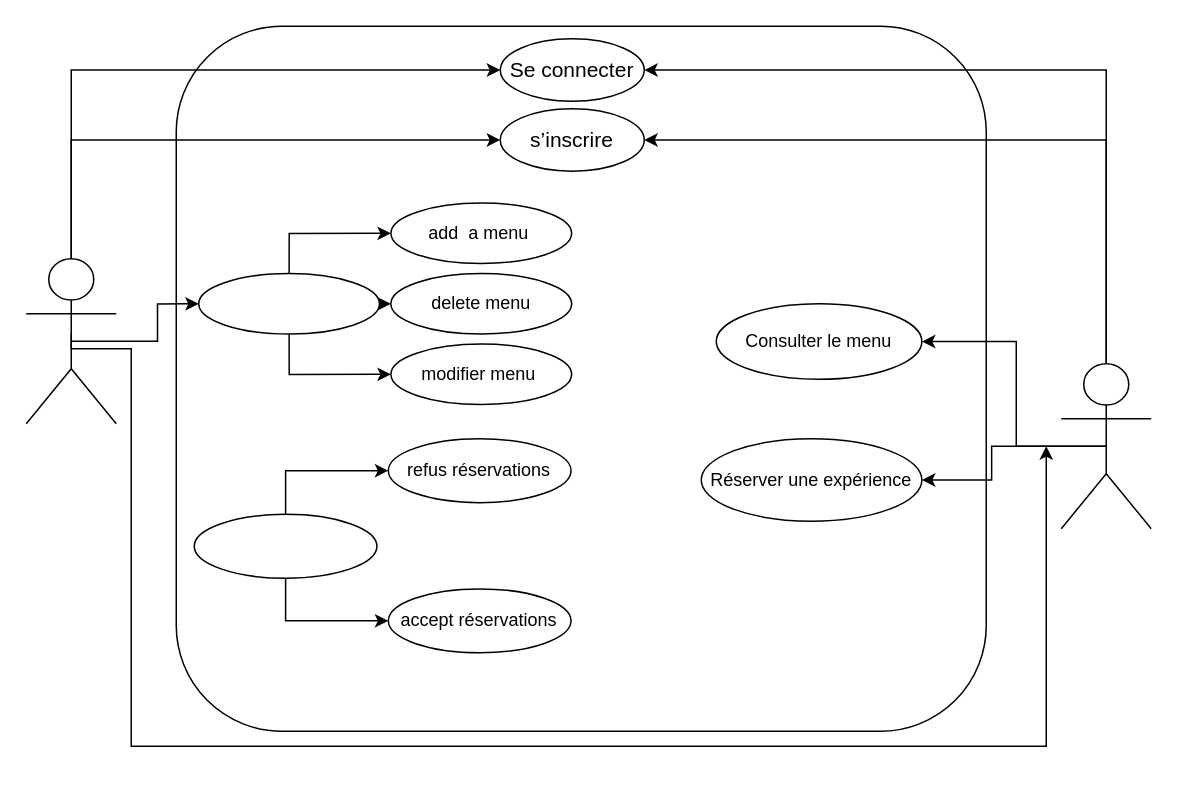
Some shapes in this 1178 by 785 pixel diagram are drawn without their labels. The centre of each missing label's shape, as x and y in pixels:
Chef: point 70,340
Client: point 1105,445
Gérer les menu: point 288,303
Gérer les réservations: point 285,545
